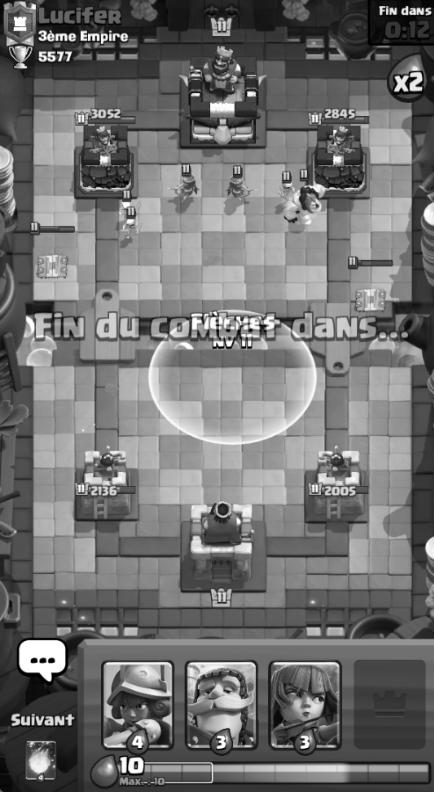archere: (227, 167, 251, 199), (169, 176, 198, 200)
squelette: (122, 217, 142, 236), (278, 179, 294, 198), (119, 204, 131, 214), (135, 201, 140, 213)
